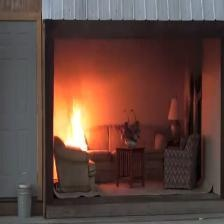fire: (53, 74, 106, 147)
